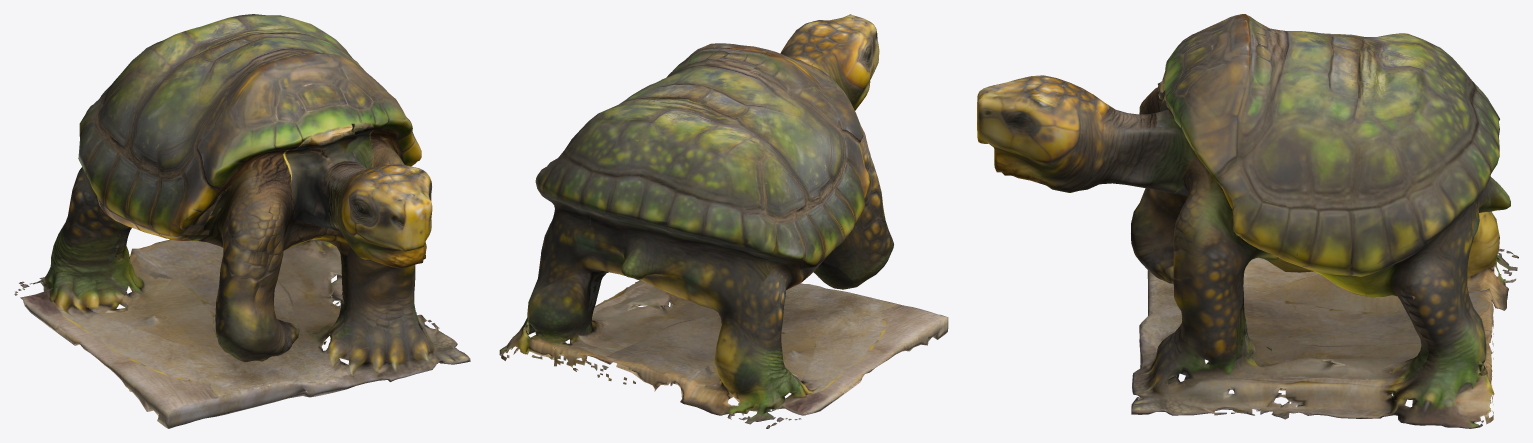
File: tortuga.glb
3 views of the same model, side by side, from view 1: azimuth 30°, elevation 25°; view 2: azimuth 150°, elevation 25°; view 3: azimuth 270°, elevation 25° (orthographic). The views are drawn at different scales.
Bounding box in the file's own units: 1.53 × 1.3 × 1.98.
1 material, 1 textured.
